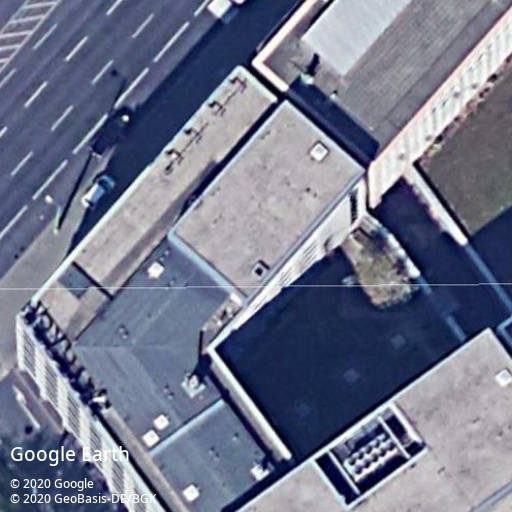Chiller: (342, 432, 399, 482)
